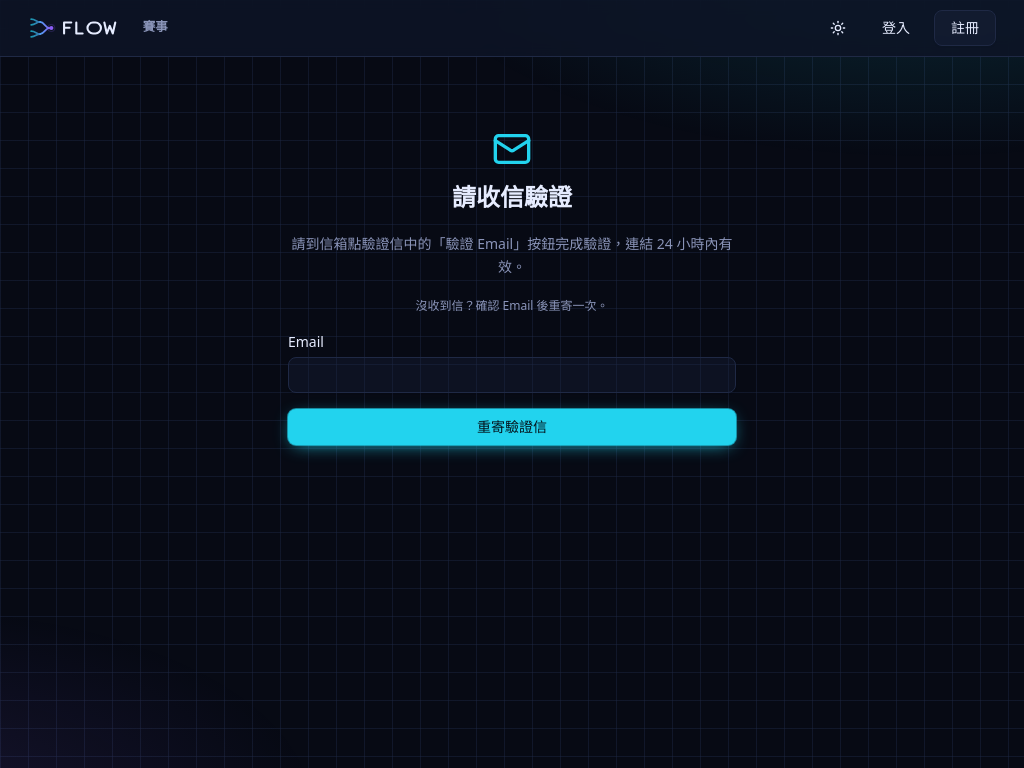
Scenario: S7 Email 驗證頁 › 重寄時 Email 格式錯誤：顯示在 Email 欄下方，不呼叫 API
Type "not-an-email" into the field labelled "Email" at coordinates (512, 375), box [288,357,736,393]
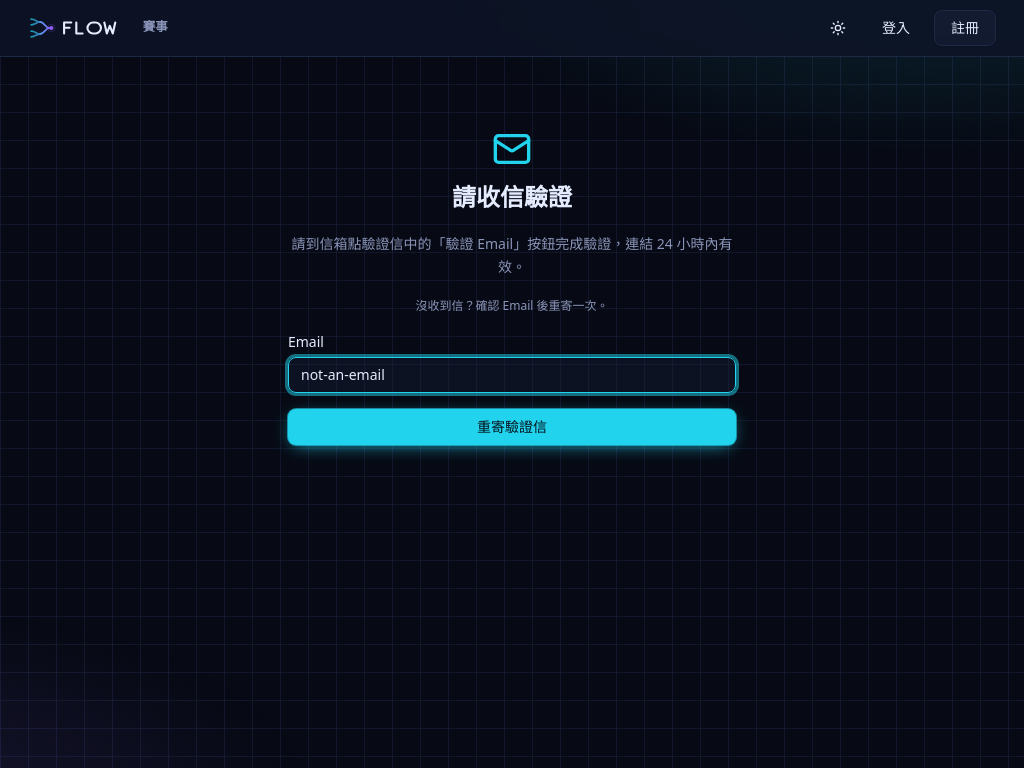
Click the button "重寄驗證信" at coordinates (512, 427), box [288,409,736,445]
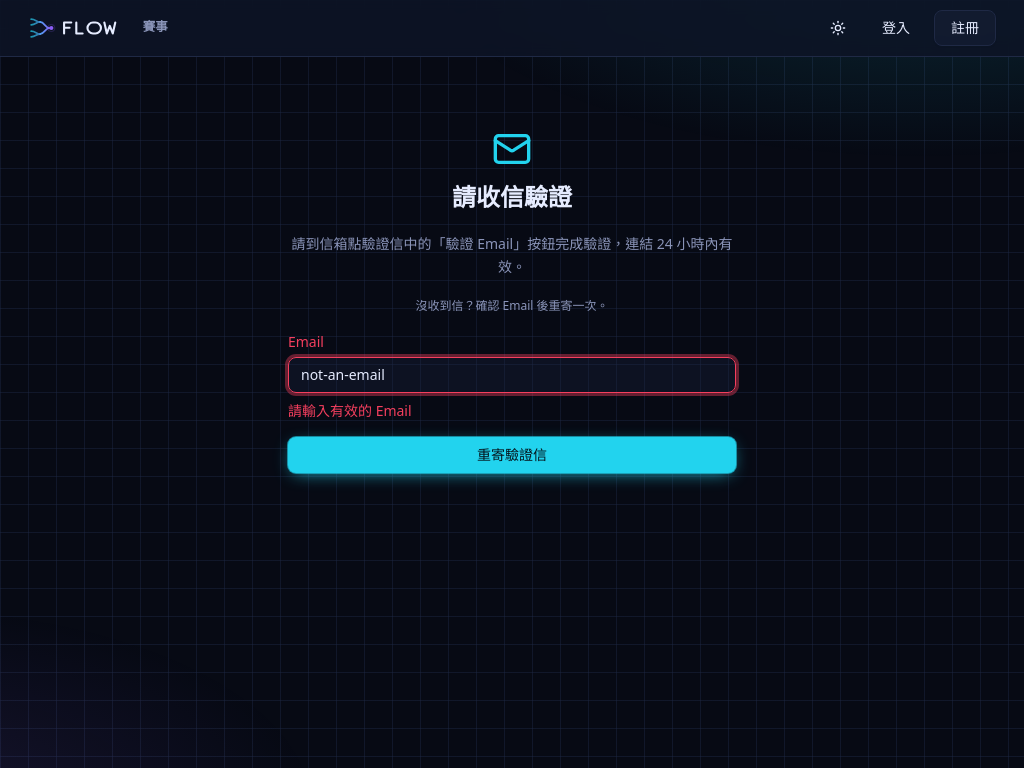
Result: the text "請輸入有效的 Email" is shown at [288,401,412,420]
